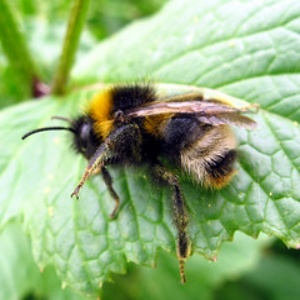bee: (68, 83, 251, 233)
